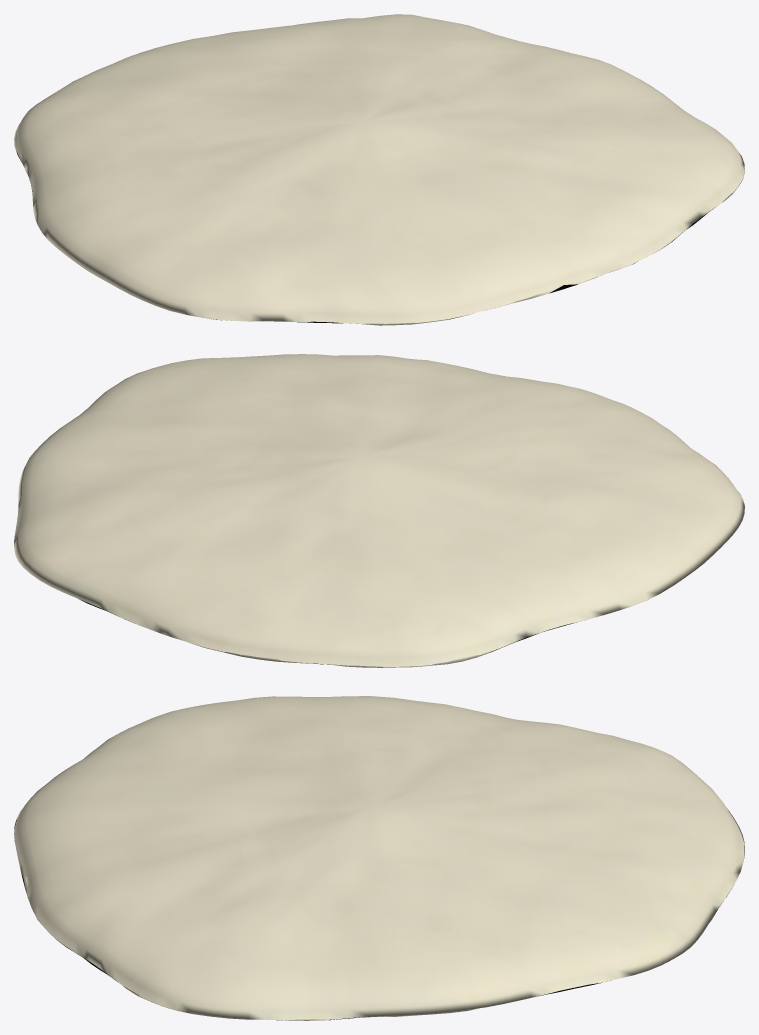
File: mayo_orig.glb
3 views of the same model, one above another, from view 1: azimuth 30°, elevation 25°; view 2: azimuth 150°, elevation 25°; view 3: azimuth 270°, elevation 25° (orthographic). The views are drawn at different scales.
Parts seen in each view (by area): view 1: EX_Mayo_orig; view 2: EX_Mayo_orig; view 3: EX_Mayo_orig.
Part boxes in pixels (box(x1,y1,x2,y2)): EX_Mayo_orig: box(14, 14, 744, 325); EX_Mayo_orig: box(14, 354, 744, 667); EX_Mayo_orig: box(14, 696, 744, 1020).
Size of the model in its own units: 0.093 by 0.00805 by 0.0908.
Materials: 1 (1 with a texture image).
